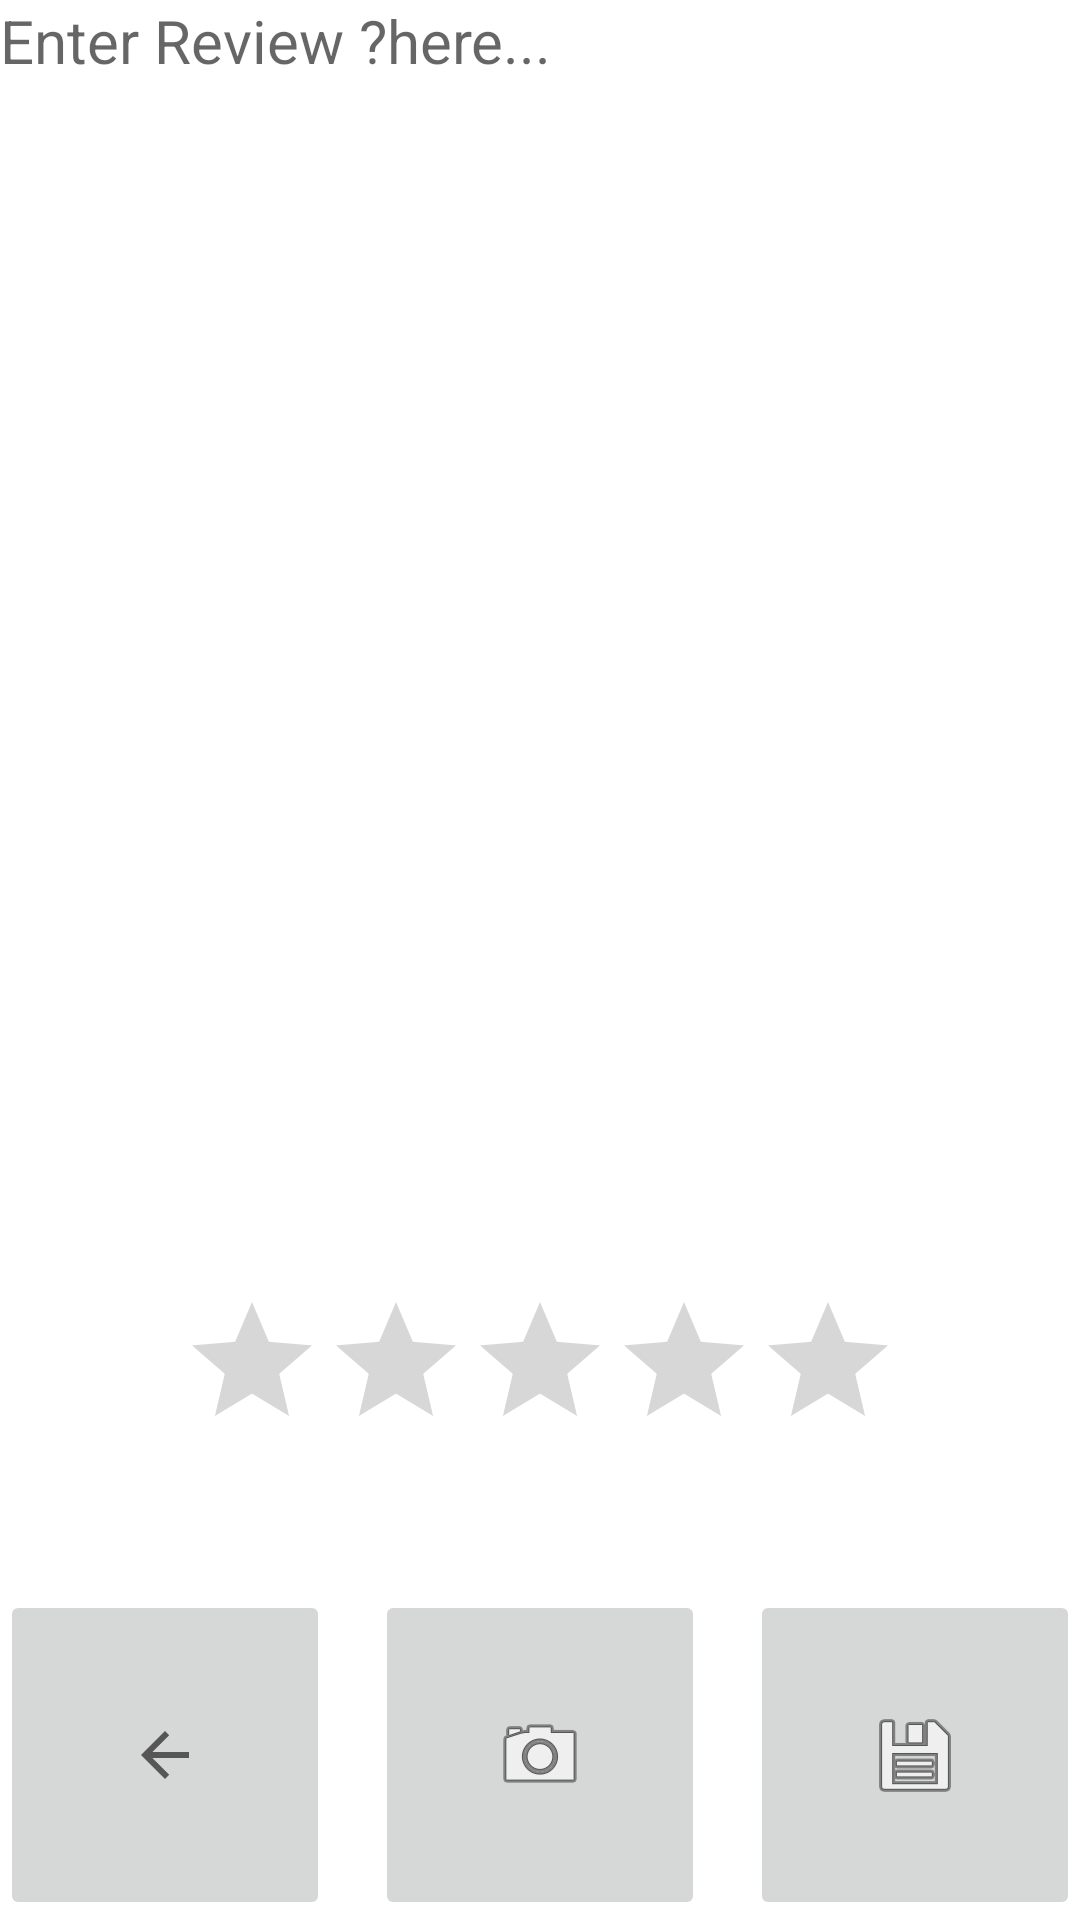

Named icons in this screenshot (1080px x 1920px) and their bounding boxes, (x1, y1, x2, y2):
camera: (387, 1608, 693, 1902)
save: (762, 1608, 1068, 1902)
